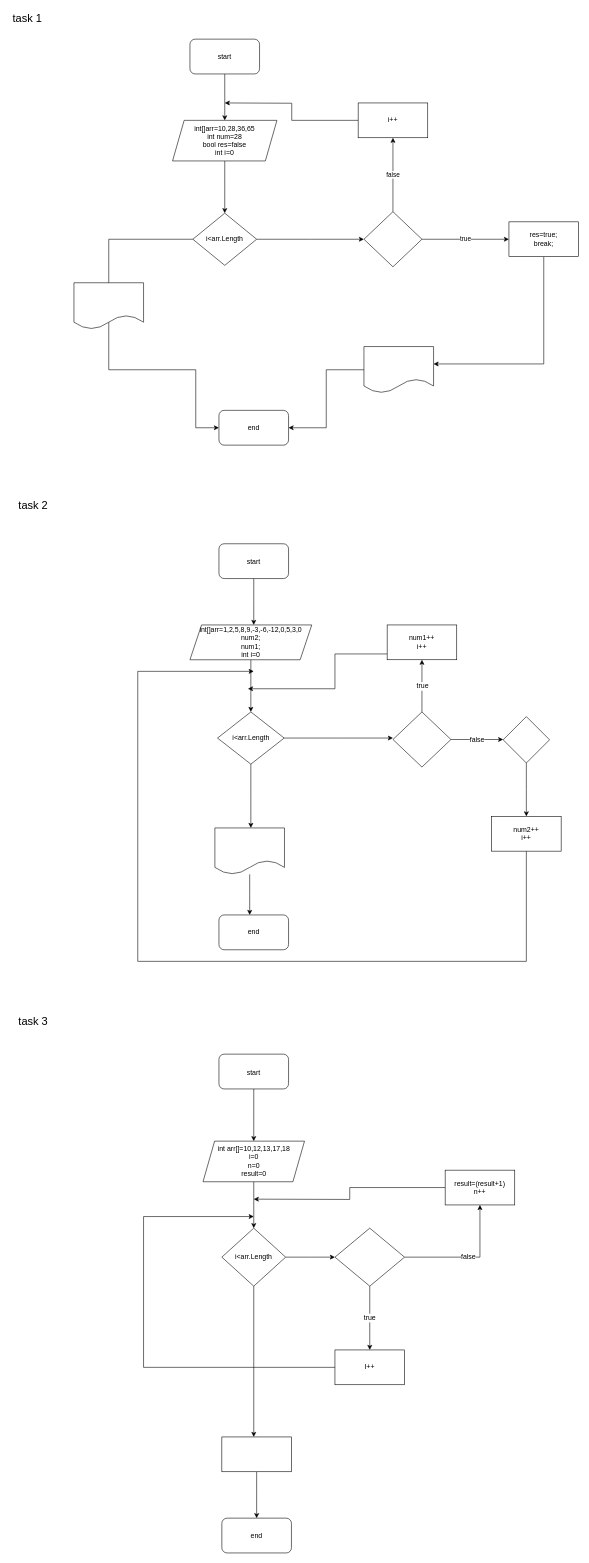
Image size: 589x1563. Some labels were removed from this diagram. Here are the shapes that lost their labels. From the top down, the centre of each, then its label:
At (x=392, y=239): "arr[i]==num".
At (x=108, y=305): "no".
At (x=398, y=369): "yes".
At (x=421, y=739): "arr[i]<0".
At (x=526, y=739): "arr[i]==0".
At (x=249, y=850): "num1;num2".
At (x=369, y=1257): "arr[i]%2==0".
At (x=256, y=1454): "answer=result/n".
